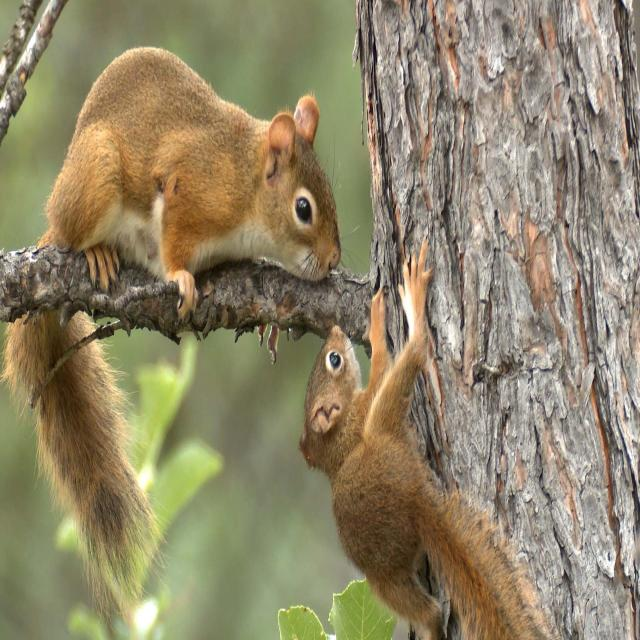Squirrel: (42, 46, 344, 306), (299, 253, 440, 630)
